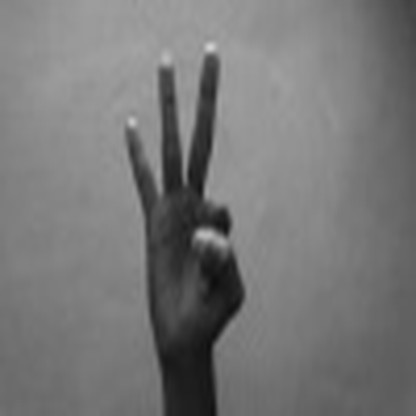f: (118, 40, 248, 371)
